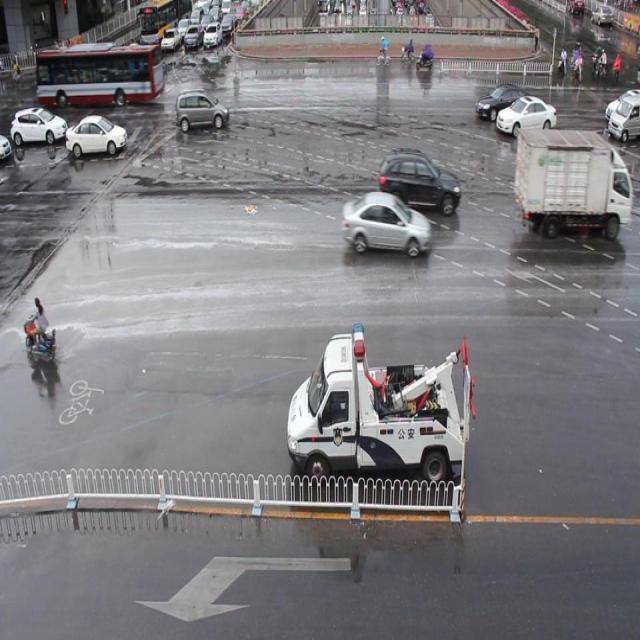bus: (286, 320, 475, 486), (516, 130, 630, 238)
car: (340, 190, 430, 258), (378, 148, 461, 215), (66, 114, 126, 160), (496, 93, 556, 132), (176, 91, 229, 133), (476, 86, 527, 118)
truck: (606, 89, 640, 140)
van: (38, 45, 164, 107)
